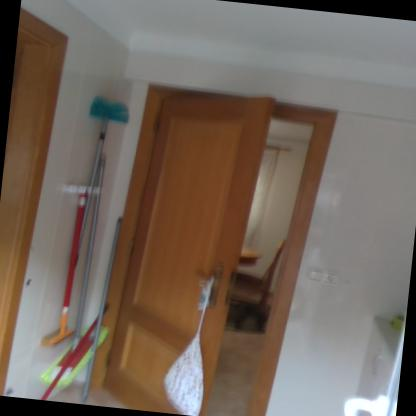semi: (91, 64, 352, 415)
